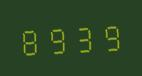eight: (18, 22, 43, 57)
nine: (44, 21, 69, 56), (96, 18, 121, 53)
three: (70, 20, 95, 54)
